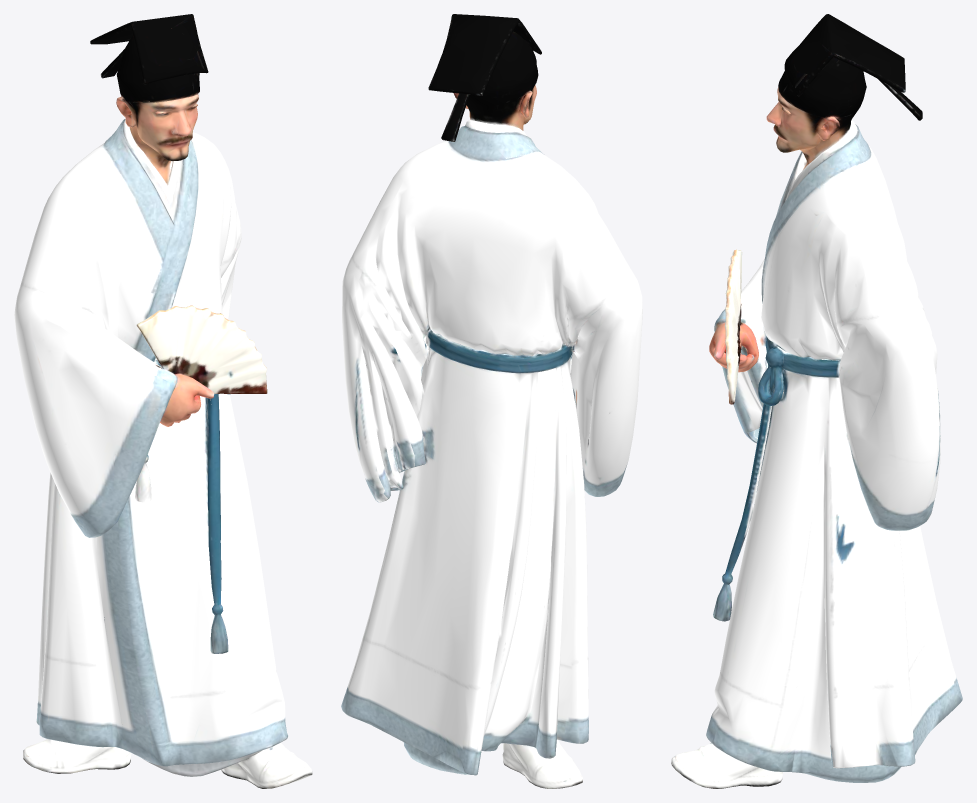
The model's file is p_scholar.glb.
The picture shows the model from 3 angles, left to right: view 1: azimuth 30°, elevation 25°; view 2: azimuth 150°, elevation 25°; view 3: azimuth 270°, elevation 25°; orthographic projection.
Parts seen in each view (by area): view 1: p_scholar; view 2: p_scholar; view 3: p_scholar.
Part boxes in pixels (bbox=[...]): p_scholar: bbox=[14, 14, 312, 788]; p_scholar: bbox=[341, 14, 642, 788]; p_scholar: bbox=[671, 14, 962, 788].
Bounding box in the file's own units: 0.6317 × 1.75 × 0.6354.
1 material, 1 textured.
